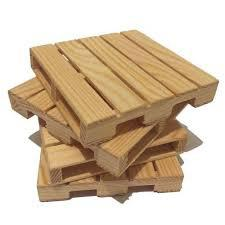wood: (9, 25, 219, 209)
